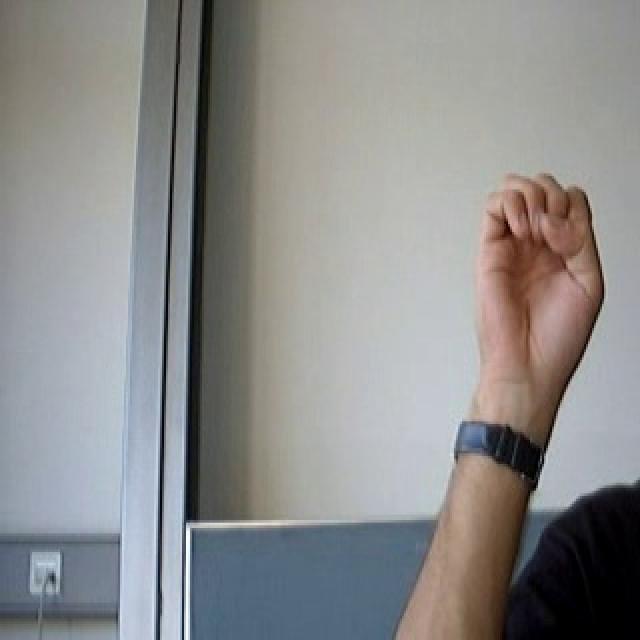E: (460, 158, 615, 390)
